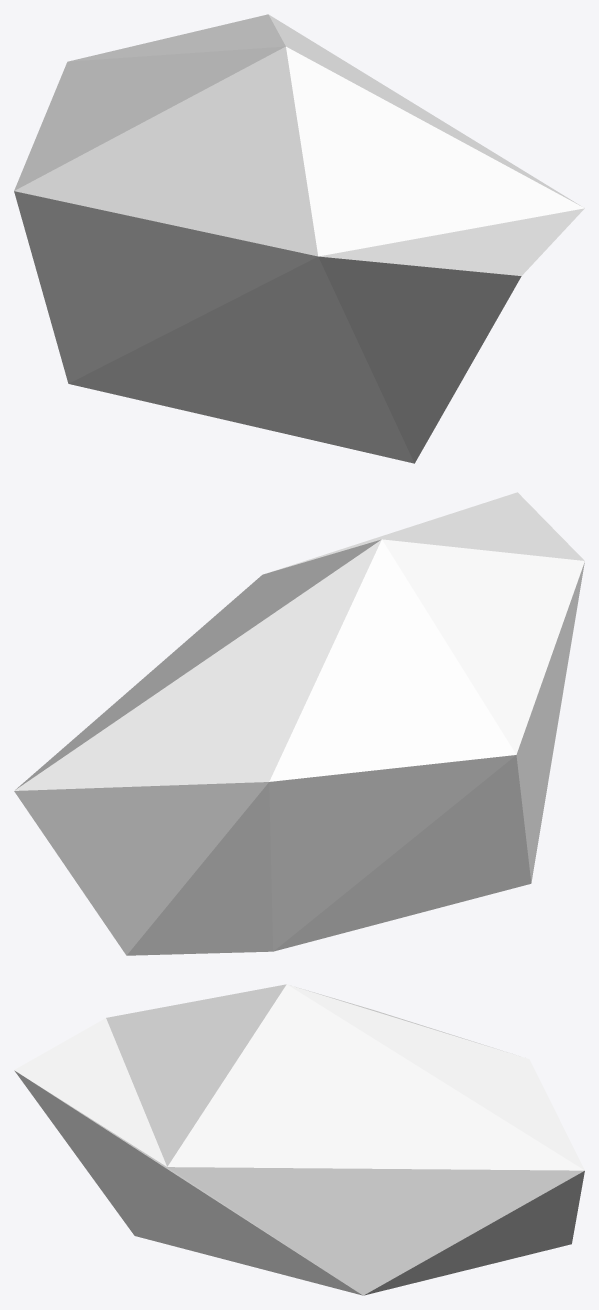
Rendered from RG_Cloud-05.fbx.
The picture shows the model from 3 angles, top to bottom: view 1: azimuth 30°, elevation 25°; view 2: azimuth 150°, elevation 25°; view 3: azimuth 270°, elevation 25°; orthographic projection. The views are drawn at different scales.
Visible parts, largest first — view 1: RG_Cloud-05; view 2: RG_Cloud-05; view 3: RG_Cloud-05.
Boxes of the visible parts, x1,y1,x2,y2 form: RG_Cloud-05: (14, 14, 584, 463); RG_Cloud-05: (14, 492, 584, 955); RG_Cloud-05: (14, 984, 584, 1295).
Bounding box in the file's own units: 51.59 × 38.21 × 80.98.
